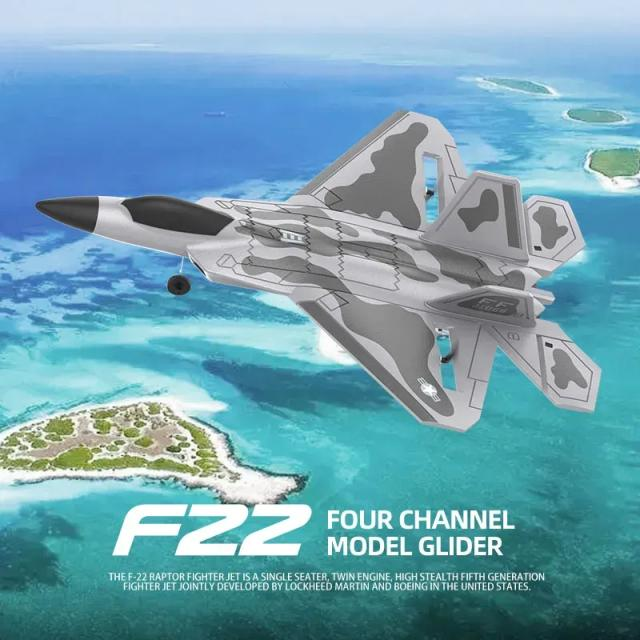F22: (19, 100, 618, 455)
